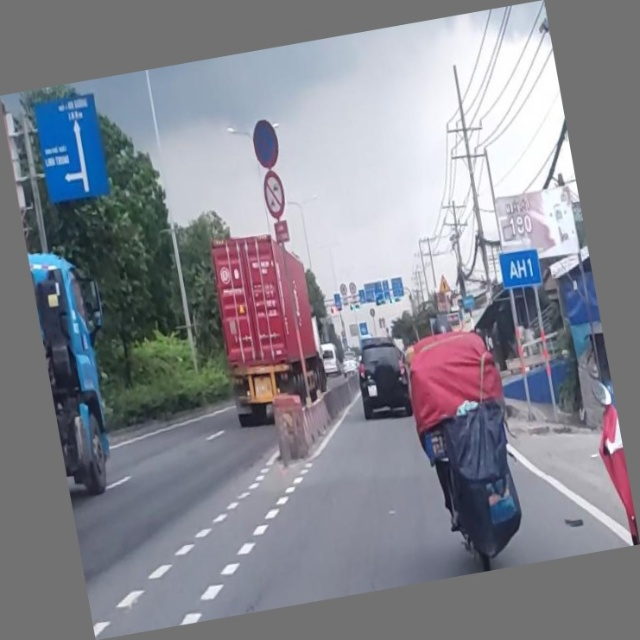B.8a: (259, 169, 289, 219)
P.111: (260, 168, 290, 218)
P.130: (249, 118, 283, 170)
